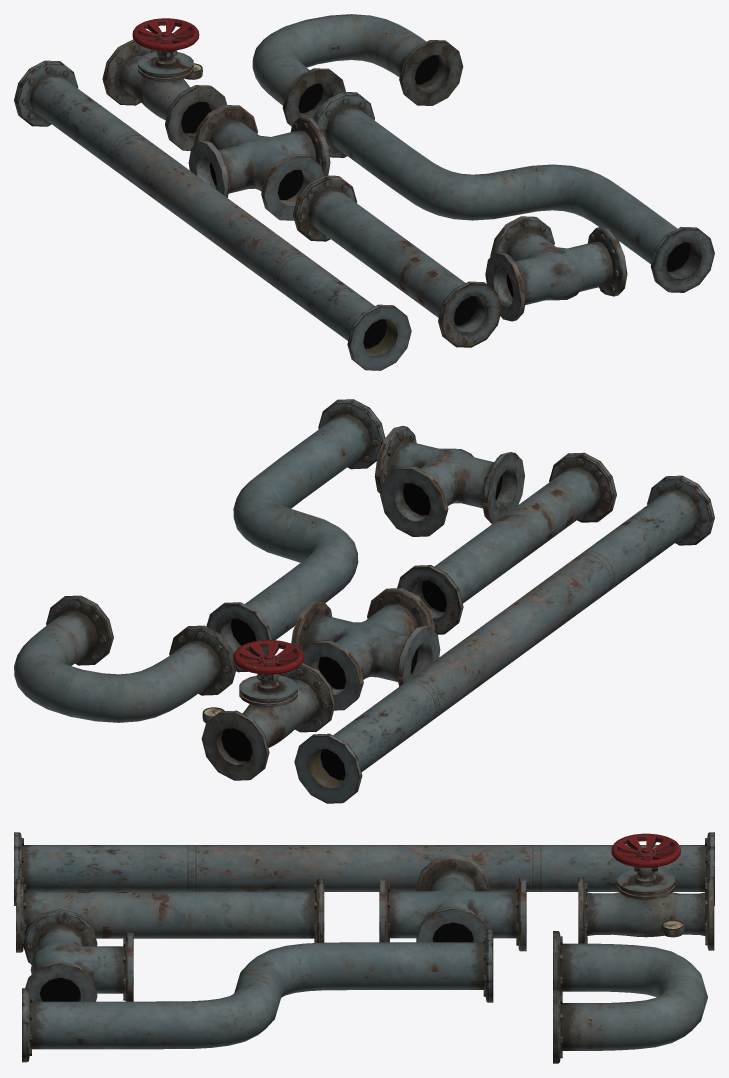
Rendered from modular_industrial_pipes_01_1k.fbx.
3 views of the same model, one above another, from view 1: azimuth 30°, elevation 25°; view 2: azimuth 150°, elevation 25°; view 3: azimuth 270°, elevation 25° (orthographic). The views are drawn at different scales.
Visible parts, largest first — view 1: modular_industrial_pipes_01_pipe02, modular_industrial_pipes_01_pipe03, modular_industrial_pipes_01_pipe05, modular_industrial_pipes_01_pipe01, modular_industrial_pipes_01_pipe07, modular_industrial_pipes_01_pipe06, modular_industrial_pipes_01_pipe08; view 2: modular_industrial_pipes_01_pipe02, modular_industrial_pipes_01_pipe03, modular_industrial_pipes_01_pipe05, modular_industrial_pipes_01_pipe01, modular_industrial_pipes_01_pipe08, modular_industrial_pipes_01_pipe07, modular_industrial_pipes_01_pipe06; view 3: modular_industrial_pipes_01_pipe02, modular_industrial_pipes_01_pipe03, modular_industrial_pipes_01_pipe05, modular_industrial_pipes_01_pipe01, modular_industrial_pipes_01_pipe07, modular_industrial_pipes_01_pipe08, modular_industrial_pipes_01_pipe06.
Part boxes in pixels (x1,y1,x2,y2): modular_industrial_pipes_01_pipe02: (14, 60, 411, 370); modular_industrial_pipes_01_pipe03: (313, 91, 714, 292); modular_industrial_pipes_01_pipe05: (252, 14, 463, 126); modular_industrial_pipes_01_pipe01: (293, 175, 502, 347); modular_industrial_pipes_01_pipe07: (188, 105, 330, 220); modular_industrial_pipes_01_pipe06: (485, 216, 627, 321); modular_industrial_pipes_01_pipe08: (102, 18, 226, 150); modular_industrial_pipes_01_pipe02: (294, 475, 714, 803); modular_industrial_pipes_01_pipe03: (206, 399, 385, 672); modular_industrial_pipes_01_pipe05: (14, 595, 236, 722); modular_industrial_pipes_01_pipe01: (397, 452, 616, 634); modular_industrial_pipes_01_pipe08: (201, 640, 335, 780); modular_industrial_pipes_01_pipe07: (291, 588, 440, 710); modular_industrial_pipes_01_pipe06: (375, 426, 524, 536); modular_industrial_pipes_01_pipe02: (14, 832, 714, 905); modular_industrial_pipes_01_pipe03: (22, 929, 493, 1062); modular_industrial_pipes_01_pipe05: (553, 931, 707, 1063); modular_industrial_pipes_01_pipe01: (16, 879, 324, 952); modular_industrial_pipes_01_pipe07: (379, 854, 526, 951); modular_industrial_pipes_01_pipe08: (578, 833, 714, 950); modular_industrial_pipes_01_pipe06: (23, 909, 133, 1001).
Size of what is drawn, in the model's own units: 125 by 30.76 by 195.
